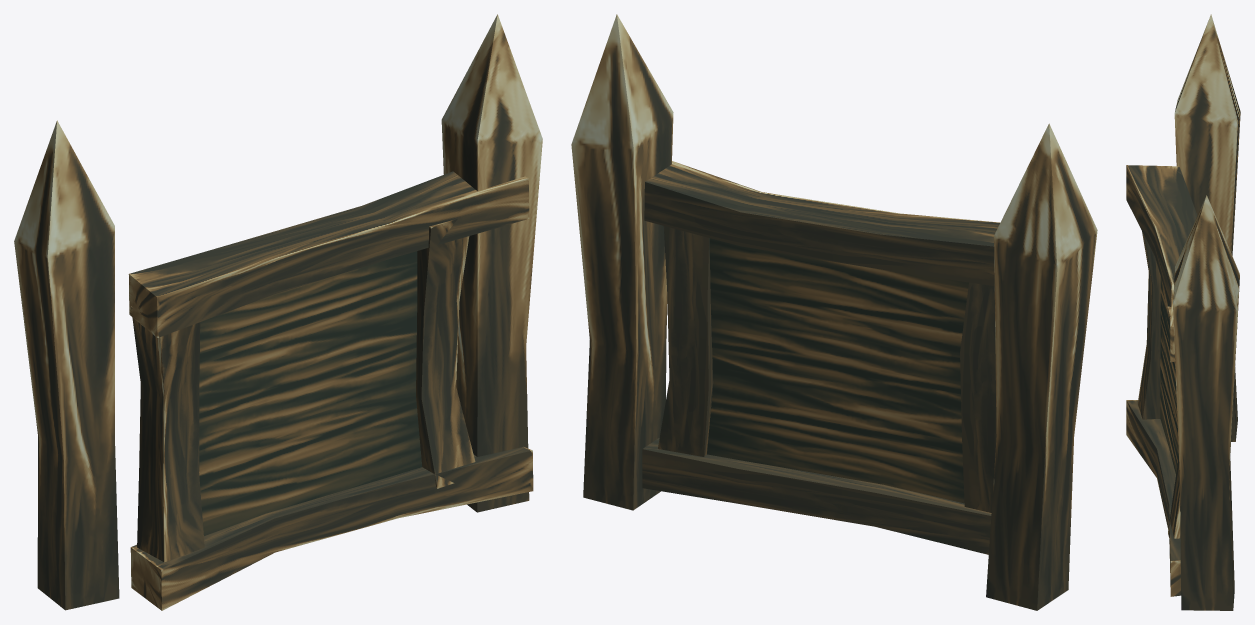
File: Orc_Village_Prop_07.FBX
3 renders of one model, left to right at view 1: azimuth 30°, elevation 25°; view 2: azimuth 150°, elevation 25°; view 3: azimuth 270°, elevation 25°, orthographic. The views are drawn at different scales.
Parts seen in each view (by area): view 1: Orc_Village_Prop_07; view 2: Orc_Village_Prop_07; view 3: Orc_Village_Prop_07.
Part boxes in pixels (box(x1,y1,x2,y2)): Orc_Village_Prop_07: box(14, 14, 542, 610); Orc_Village_Prop_07: box(571, 14, 1097, 610); Orc_Village_Prop_07: box(1126, 14, 1240, 610).
Bounding box in the file's own units: 466 × 432 × 110.
